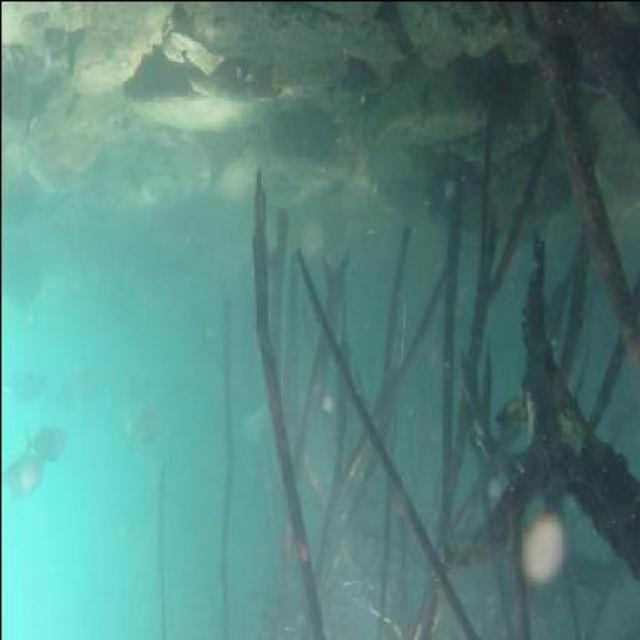Caranx_sexfasciatus_juvenile: (42, 358, 106, 409), (19, 415, 66, 471), (115, 407, 156, 462), (0, 354, 38, 411), (0, 456, 38, 501)
